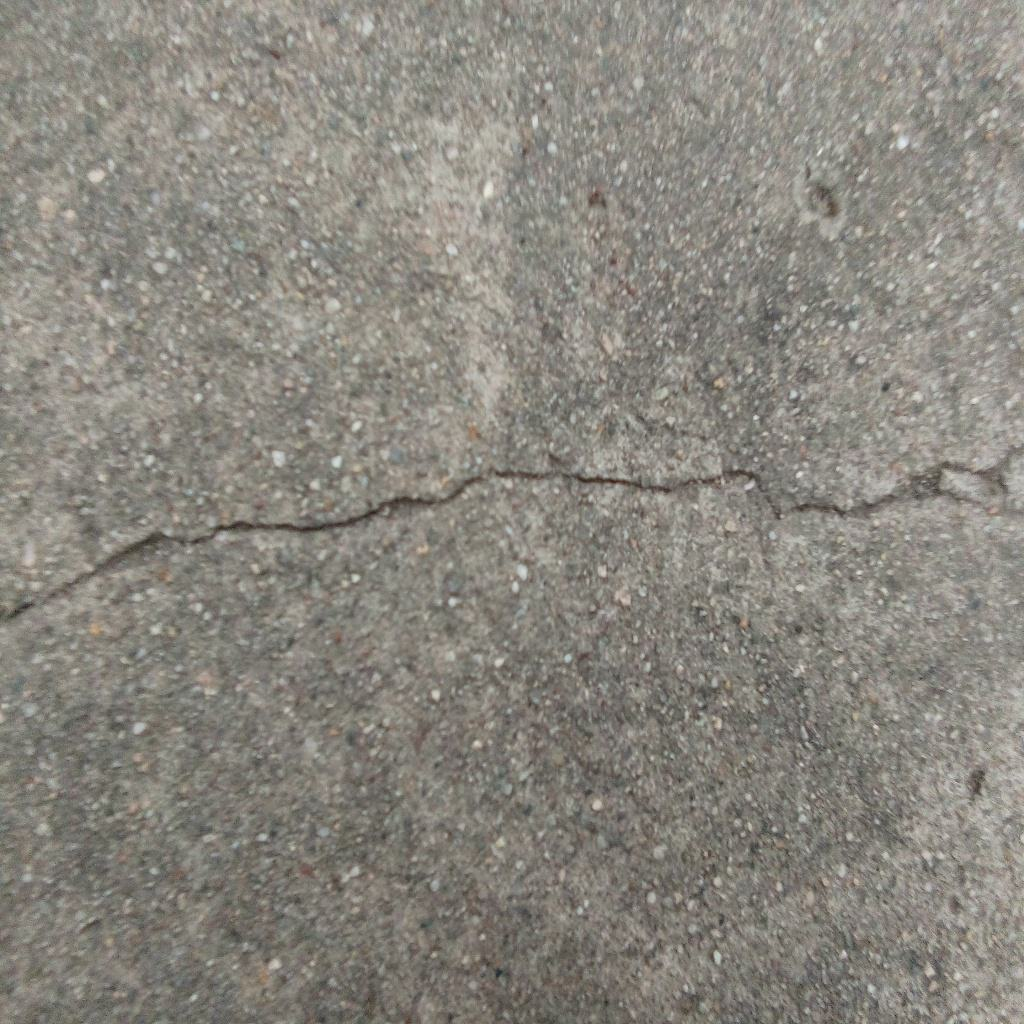Crack: (1, 440, 1024, 624)
